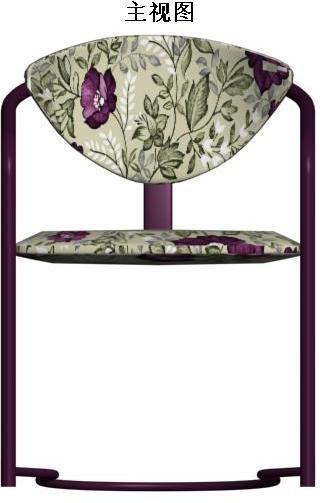obstacle: (1, 36, 314, 490)
